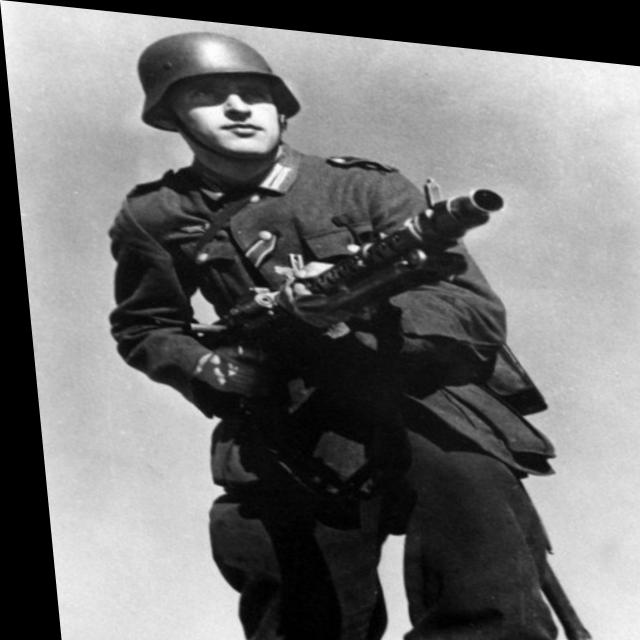other: (99, 15, 490, 640)
